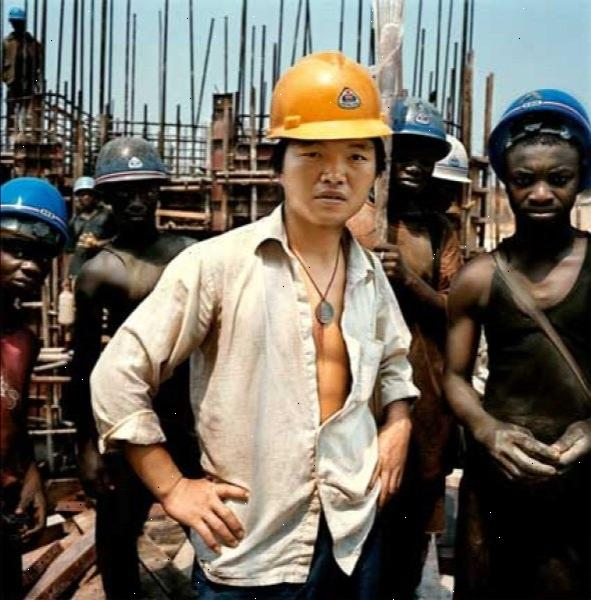helmet: (260, 50, 395, 149), (486, 88, 590, 180), (0, 175, 66, 260), (380, 96, 453, 168), (94, 134, 171, 192), (430, 131, 478, 193), (73, 174, 99, 196), (5, 4, 27, 21)
no_wear: (165, 234, 380, 547), (458, 244, 591, 468), (75, 240, 179, 301), (0, 34, 36, 85)
